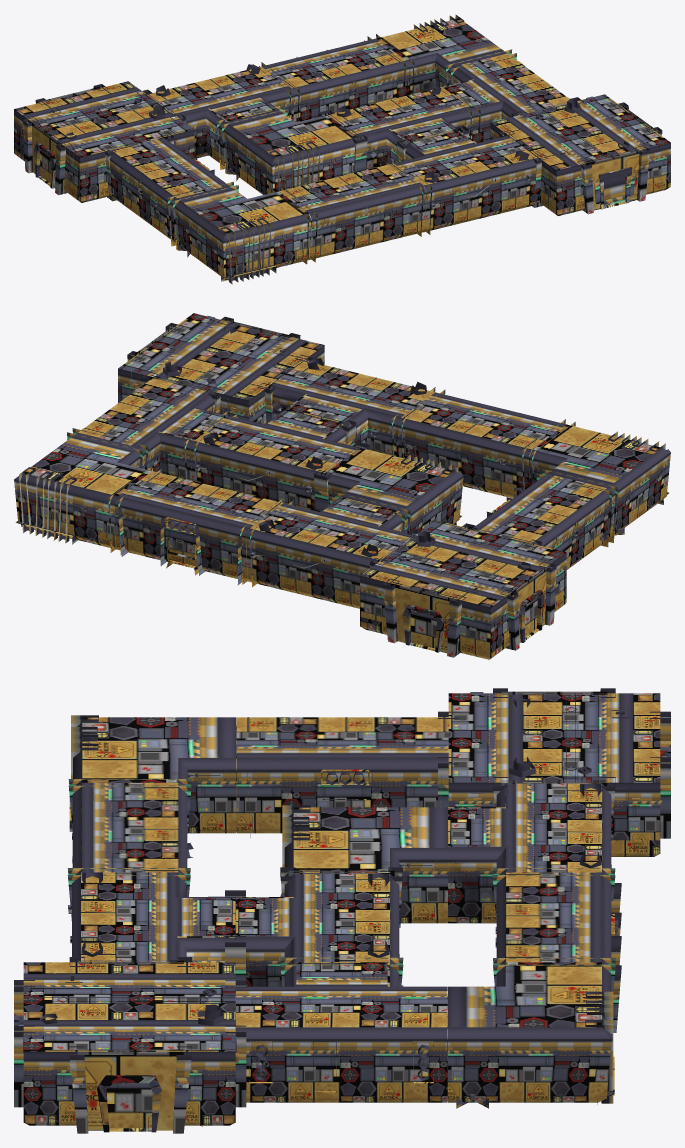
The model's file is Combined_Mesh_root_scene__2_ff295a5e__zombies2_diffuse_04_b80f3c78_c1f257.obj.
3 views of the same model, one above another, from view 1: azimuth 30°, elevation 25°; view 2: azimuth 150°, elevation 25°; view 3: azimuth 270°, elevation 25° (orthographic). The views are drawn at different scales.
Bounding box in the file's own units: 81.96 × 9.64 × 62.02.
Materials: 180 (180 with a texture image).
